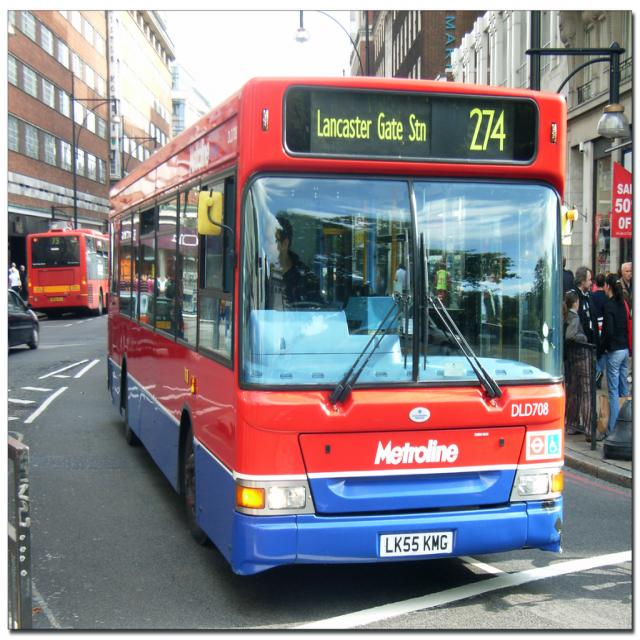other: (0, 288, 41, 346)
